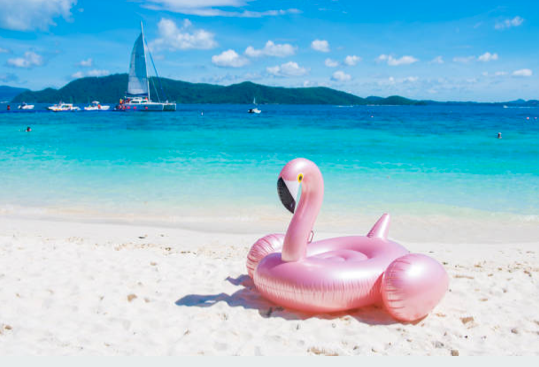Flamingo: (244, 157, 452, 326)
